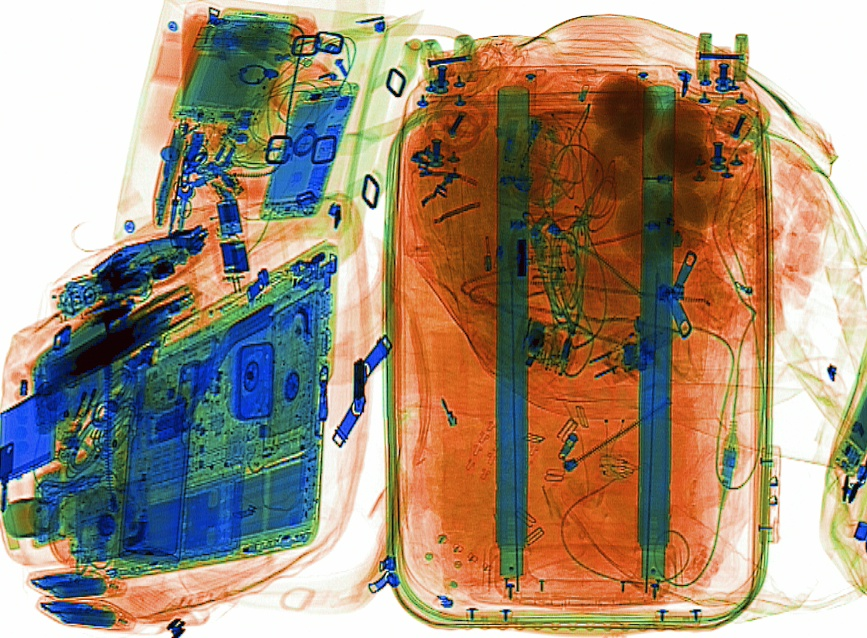powerbank: (30, 281, 202, 390), (26, 563, 123, 601), (38, 598, 136, 631)
